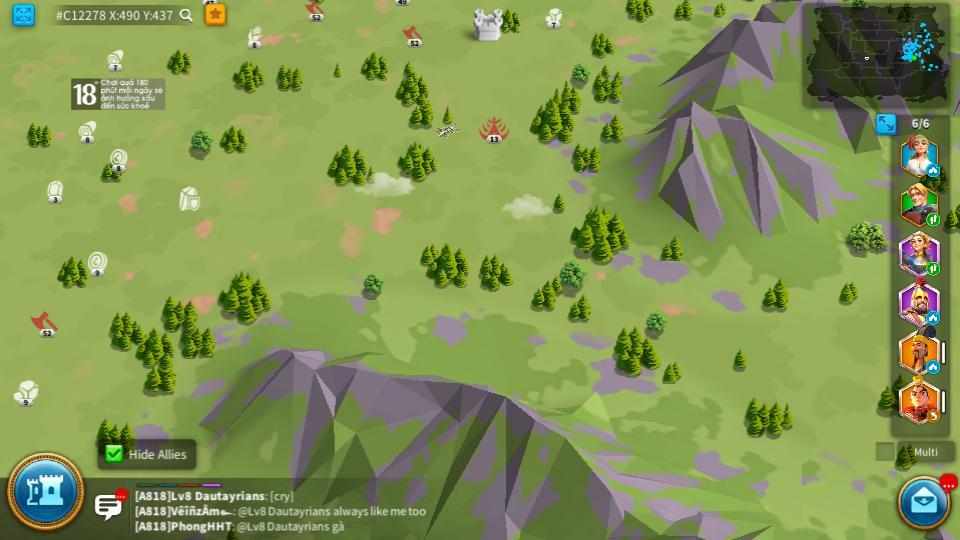gem-z-out: (43, 179, 66, 201)
march_idle: (927, 312, 940, 324), (927, 362, 940, 373), (928, 166, 940, 176)
march_marching: (925, 263, 938, 275), (927, 216, 939, 227)
march_returning: (926, 411, 940, 422)
